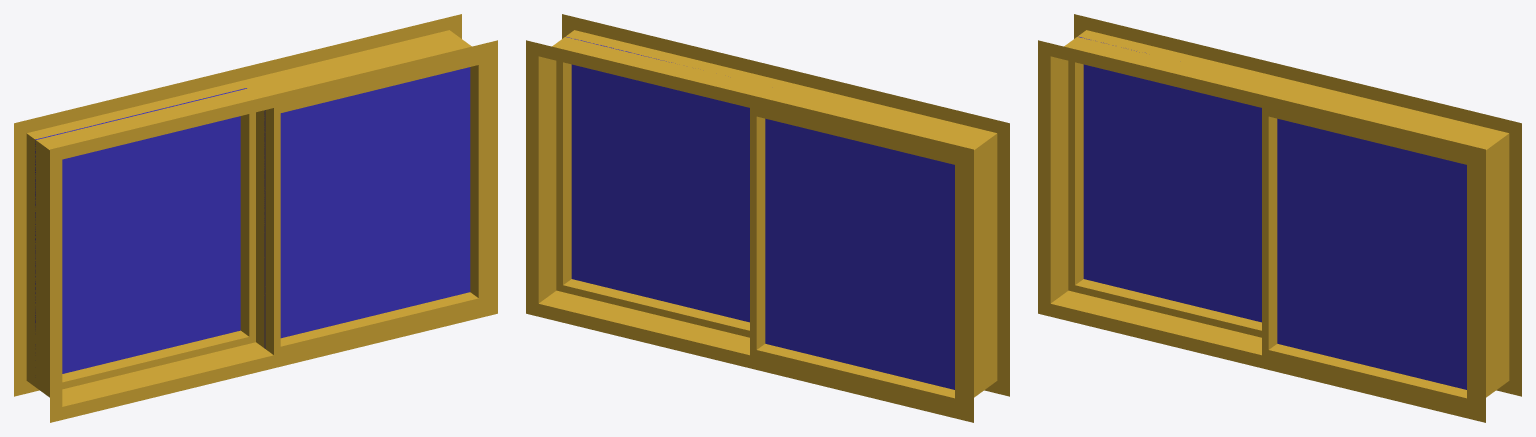
Rendered from 10_SlidingWindow.FBX.
The picture shows the model from 3 angles, left to right: view 1: azimuth 30°, elevation 25°; view 2: azimuth 150°, elevation 25°; view 3: azimuth 330°, elevation 25°; orthographic projection.
Visible parts, largest first — view 1: 10_SlidingWindow; view 2: 10_SlidingWindow; view 3: 10_SlidingWindow.
Boxes of the visible parts, box(x1,y1,x2,y2) form: 10_SlidingWindow: box(14, 14, 497, 422); 10_SlidingWindow: box(526, 14, 1009, 422); 10_SlidingWindow: box(1038, 14, 1521, 422).
Bounding box in the file's own units: 183 × 107 × 25.4.
